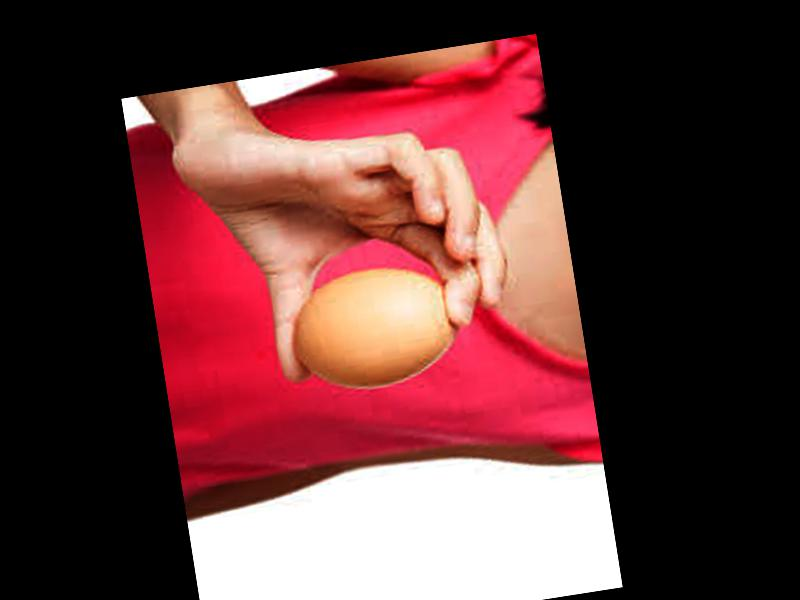Eggs: (286, 257, 467, 397)
